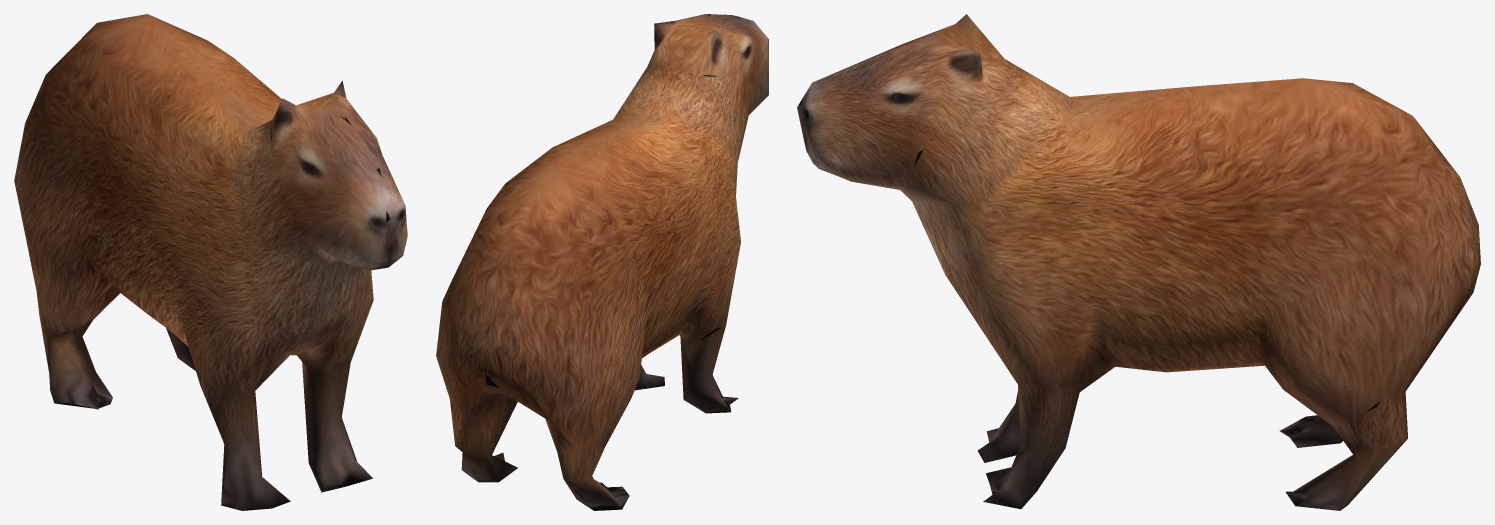
Rendered from capybara_3D.glb.
3 views of the same model, side by side, from view 1: azimuth 30°, elevation 25°; view 2: azimuth 150°, elevation 25°; view 3: azimuth 270°, elevation 25° (orthographic). The views are drawn at different scales.
Parts seen in each view (by area): view 1: Capybara_mesh_Capybara_mat_0; view 2: Capybara_mesh_Capybara_mat_0; view 3: Capybara_mesh_Capybara_mat_0.
Part boxes in pixels (x1,y1,x2,y2): Capybara_mesh_Capybara_mat_0: (14,14,407,510); Capybara_mesh_Capybara_mat_0: (436,14,768,510); Capybara_mesh_Capybara_mat_0: (797,14,1480,510).
Bounding box in the file's own units: 0.3017 × 0.628 × 0.8763.
Materials: 1 (1 with a texture image).
